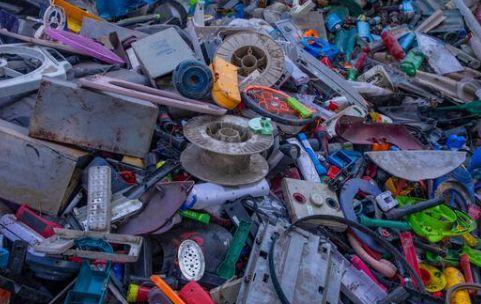electronic: (227, 198, 383, 304), (263, 20, 372, 115), (0, 42, 73, 108), (232, 218, 288, 304), (281, 178, 346, 230), (86, 166, 111, 232), (322, 146, 362, 181), (273, 18, 307, 54), (222, 196, 255, 231), (5, 240, 28, 276), (375, 191, 399, 212)
light bulb: (356, 17, 370, 41)
